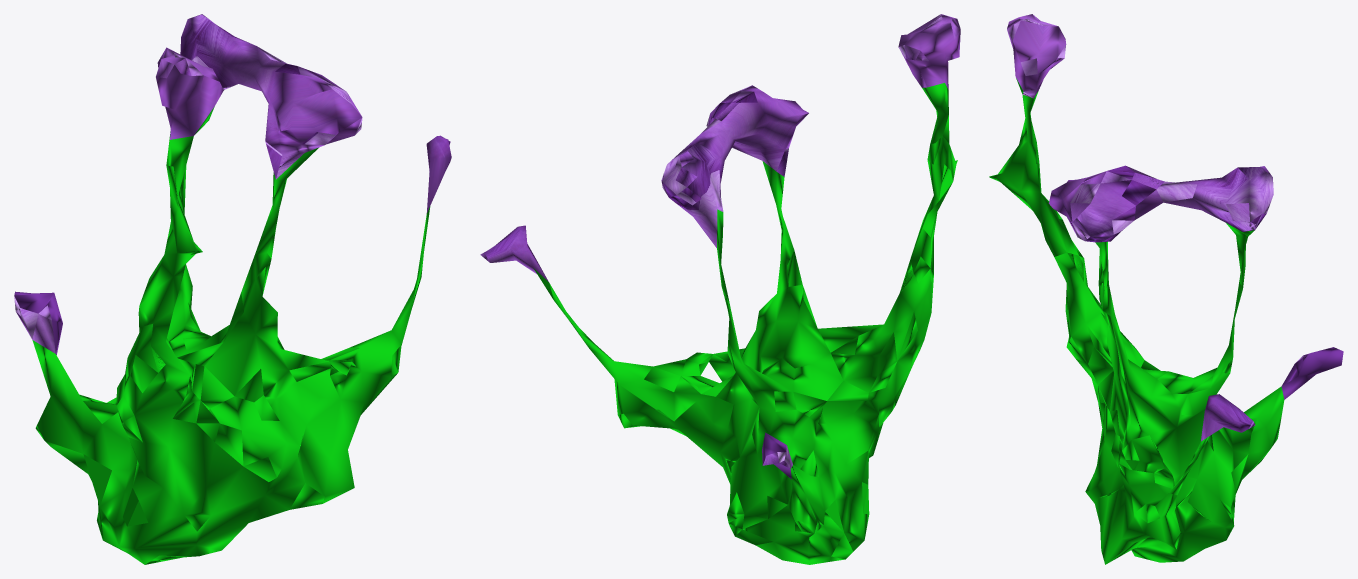
Rendered from oneThistleCleaned.fbx.
The picture shows the model from 3 angles, left to right: view 1: azimuth 30°, elevation 25°; view 2: azimuth 150°, elevation 25°; view 3: azimuth 270°, elevation 25°; orthographic projection. The views are drawn at different scales.
Visible parts, largest first — view 1: smallThistles; view 2: smallThistles; view 3: smallThistles.
Boxes of the visible parts, x1=… form: smallThistles: x1=14, y1=14, x2=451, y2=564; smallThistles: x1=480, y1=14, x2=960, y2=564; smallThistles: x1=989, y1=14, x2=1343, y2=564.
Size of the model in its own units: 276 by 363 by 232.
